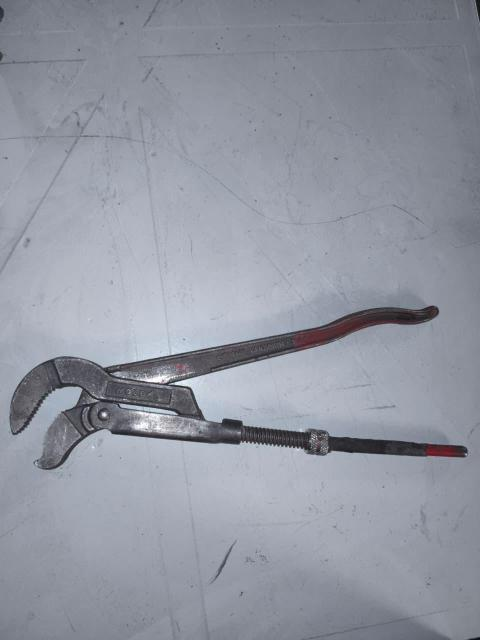Metal: (13, 305, 472, 470)
